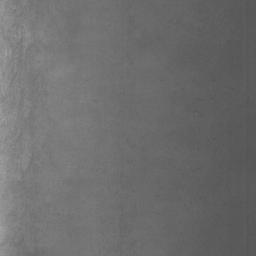Silk spot: (10, 37, 39, 66), (10, 235, 45, 256), (21, 152, 40, 178), (10, 126, 23, 159), (9, 67, 20, 87), (12, 181, 32, 192)
